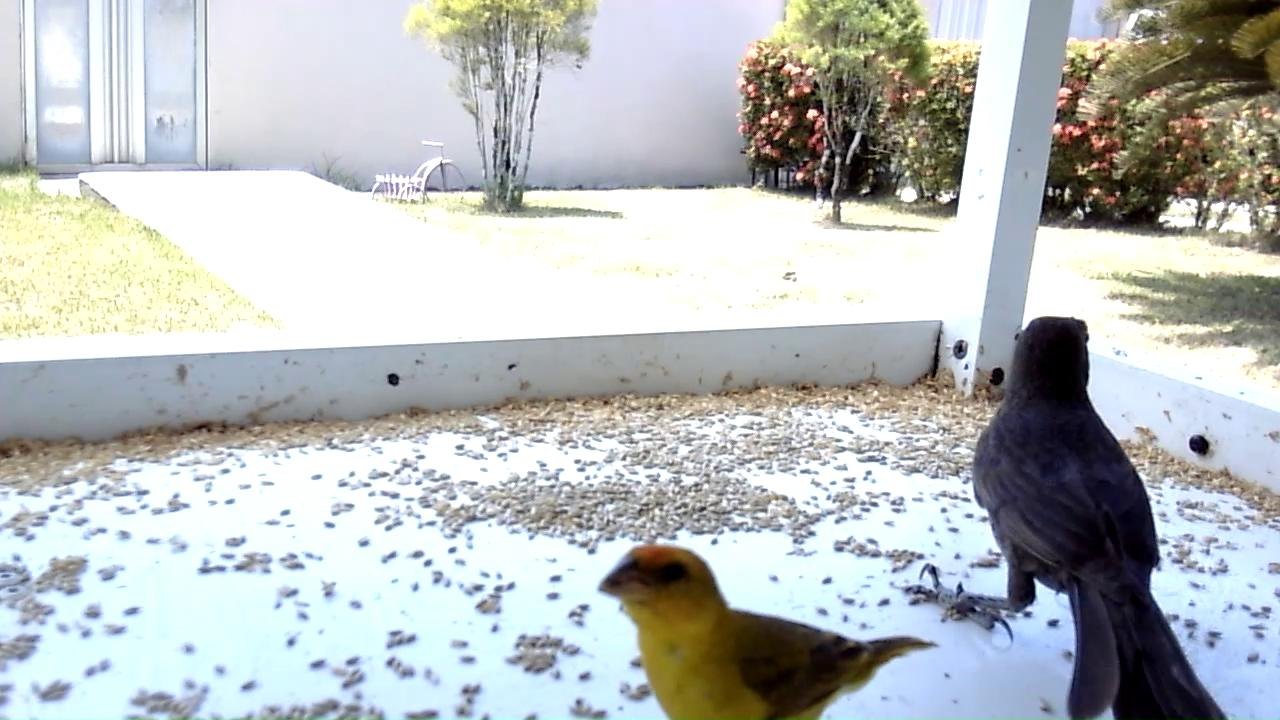canario_do_amazonas: (595, 543, 943, 720)
chupim: (905, 312, 1227, 720)
